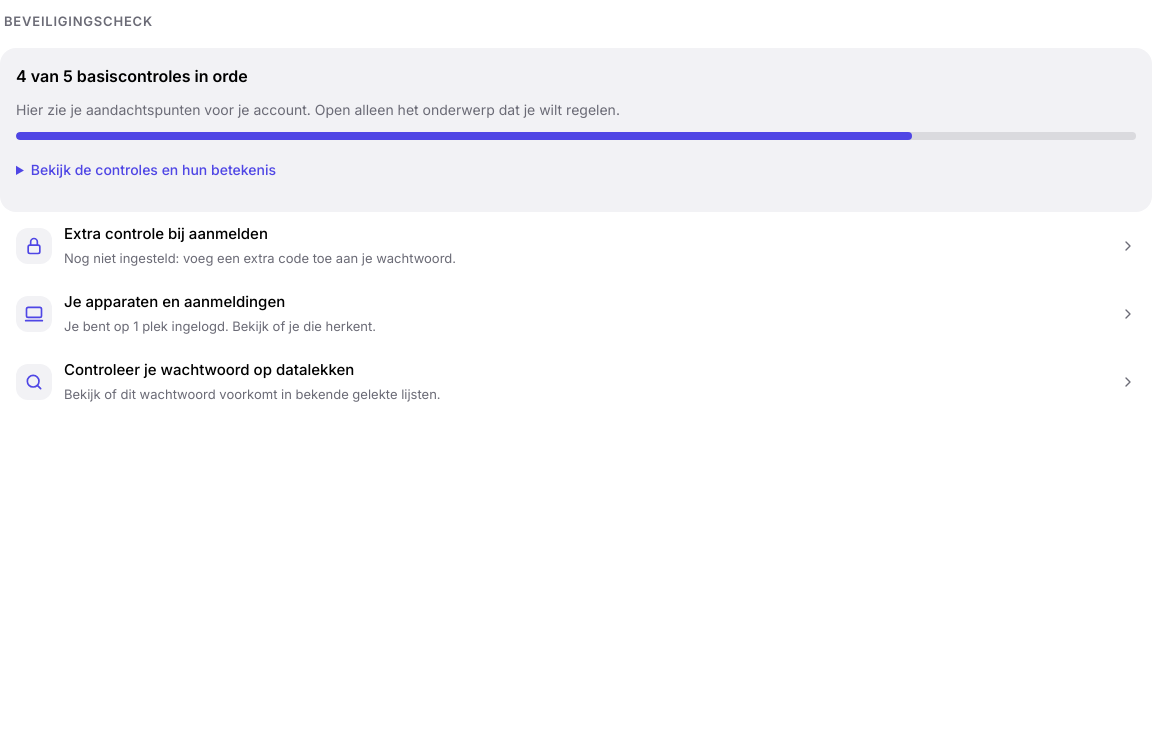
legt beveiliging eenvoudig uit en laat alleen gekozen details zien zonder instellingen te wijzigen
Click the text "Je apparaten en aanmeldingen" at (175, 301), box [64,292,285,310]
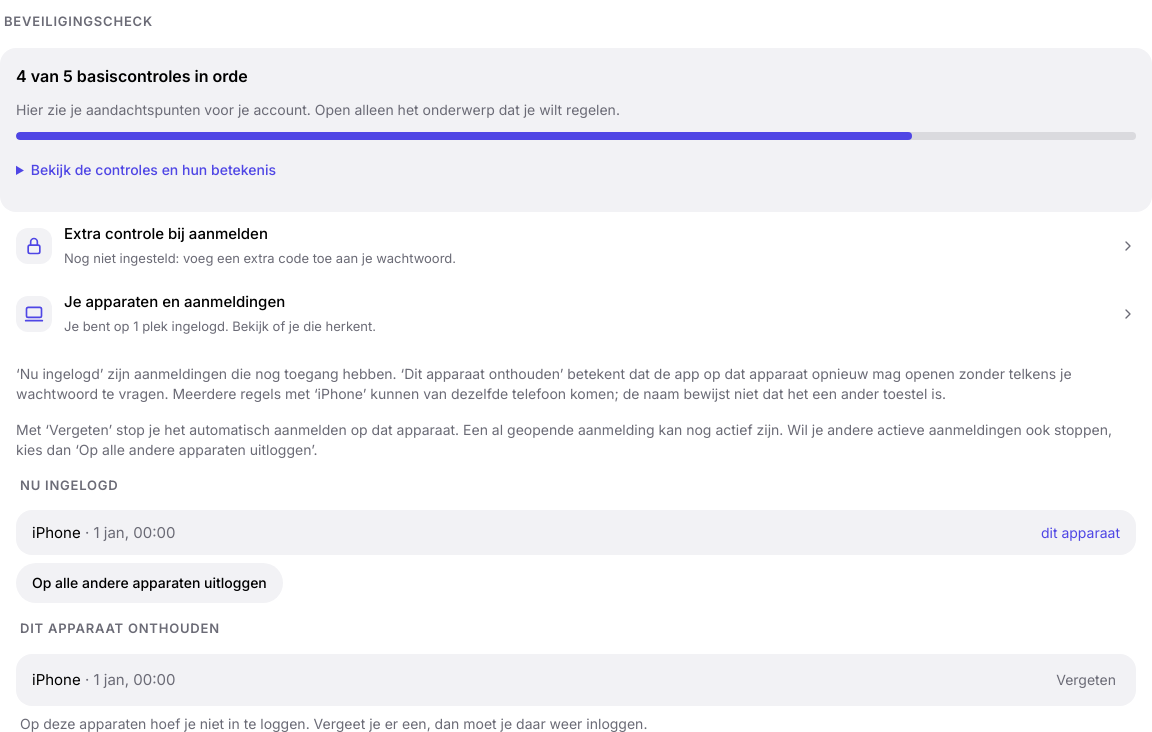
Expected: the text "Meerdere regels met ‘iPhone’" is shown, [16,364,1072,402]
Expected: the heading "Nu ingelogd" is shown, [20,476,118,492]
